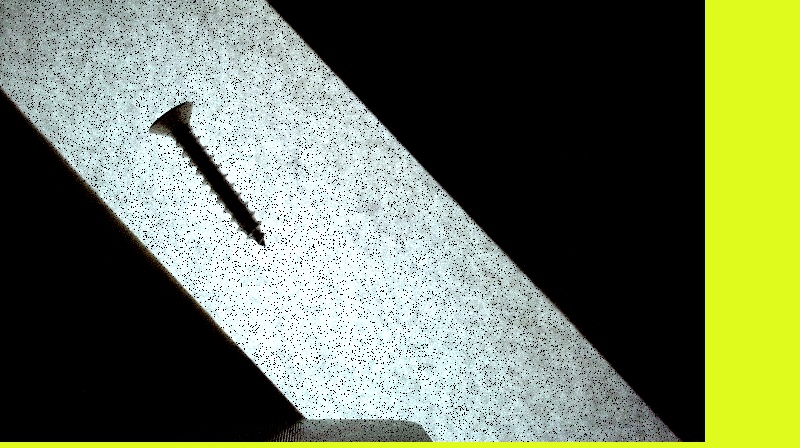S001: (146, 95, 271, 253)
